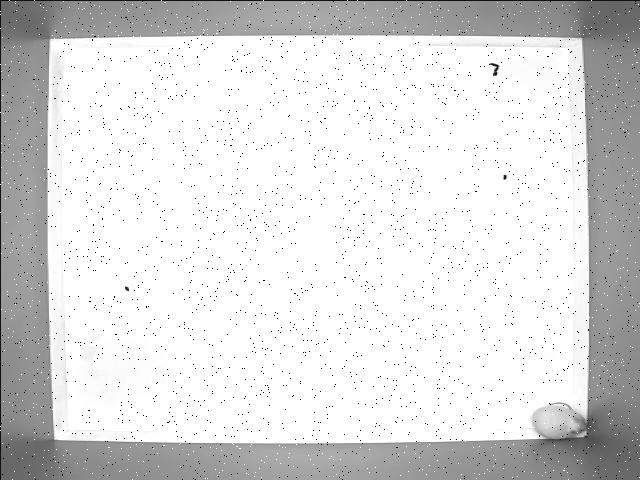Tikus: (528, 401, 588, 440)
